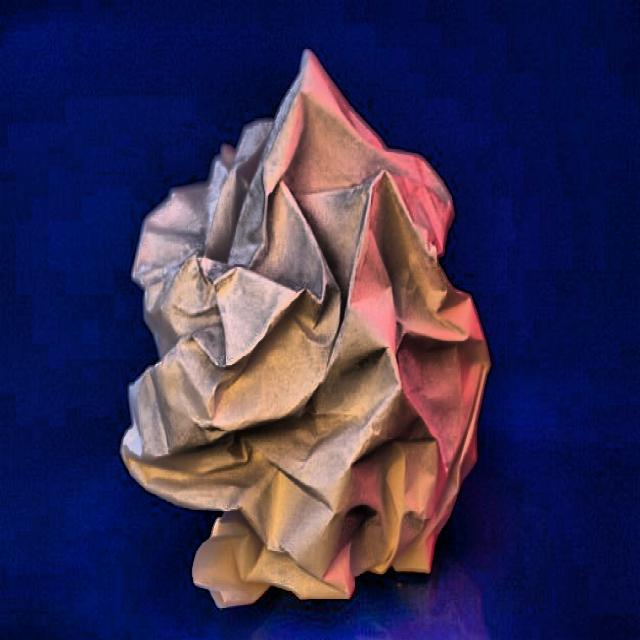Paper: (108, 48, 504, 636)
